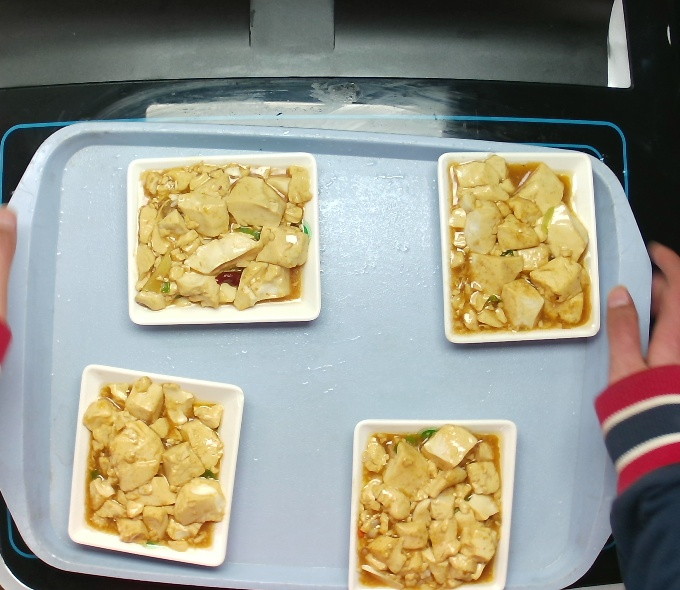wcq-DouFu: (127, 154, 318, 316), (76, 382, 240, 550), (439, 168, 594, 322), (348, 431, 504, 580)
